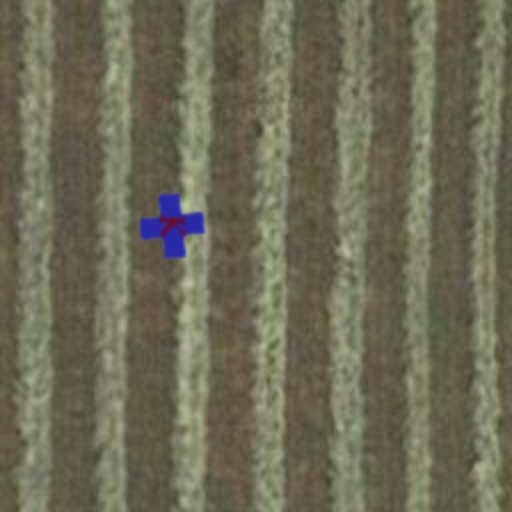cross: (136, 190, 208, 262)
